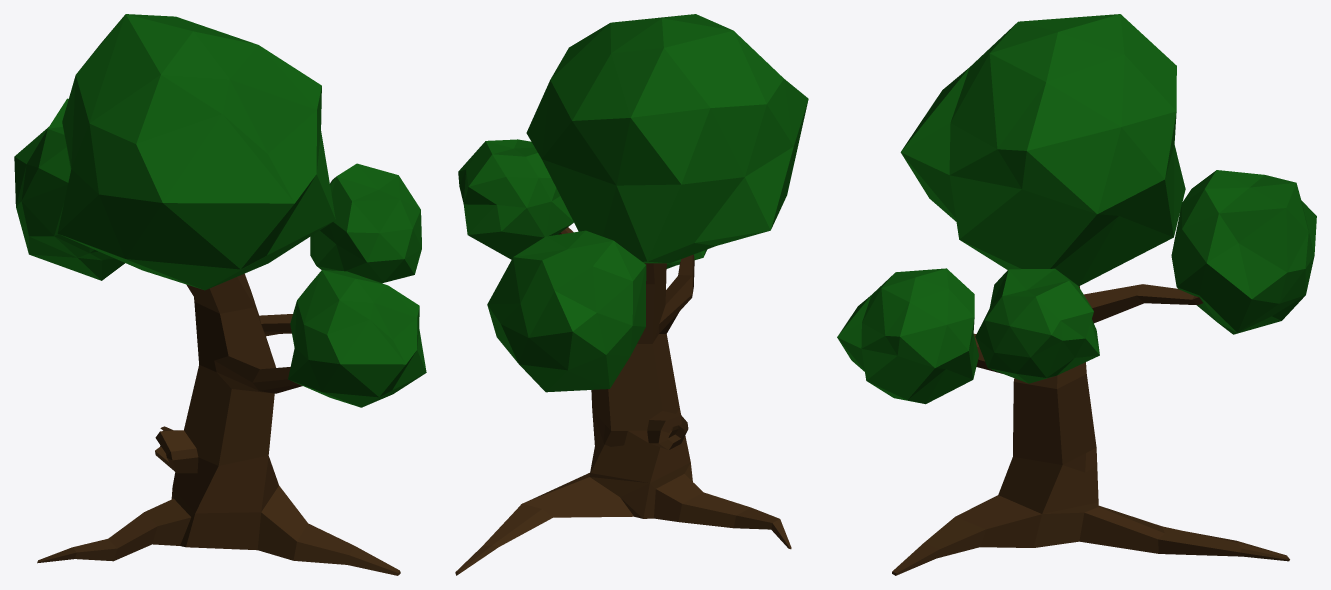
File: tree01.fbx
3 views of the same model, side by side, from view 1: azimuth 30°, elevation 25°; view 2: azimuth 150°, elevation 25°; view 3: azimuth 270°, elevation 25° (orthographic). The views are drawn at different scales.
Visible parts, largest first — view 1: Cylinder.001; view 2: Cylinder.001; view 3: Cylinder.001.
Part boxes in pixels (left/top/right/bottom): Cylinder.001: left=14, top=14, right=426, bottom=575; Cylinder.001: left=455, top=14, right=808, bottom=575; Cylinder.001: left=837, top=14, right=1316, bottom=575.
Size of the model in its own units: 1096 by 1494 by 1330.
